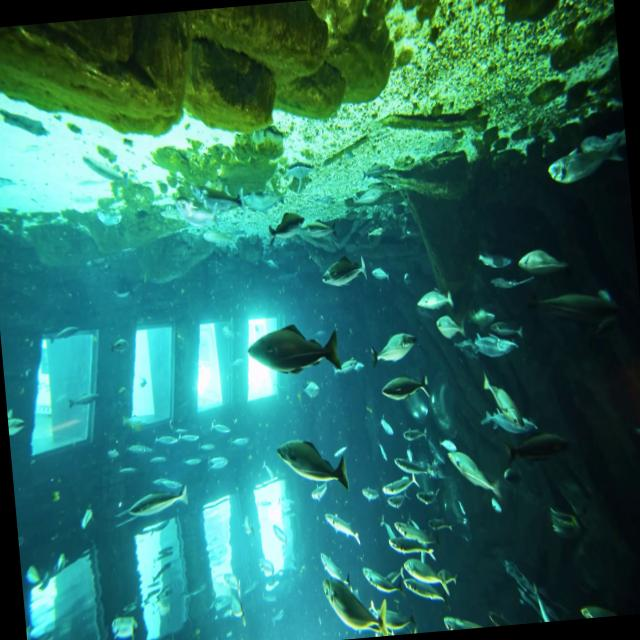fish: (538, 104, 630, 201), (240, 324, 340, 378), (274, 431, 354, 496), (322, 572, 388, 640), (116, 470, 190, 528), (508, 237, 569, 290), (366, 327, 414, 381), (478, 381, 528, 431)
